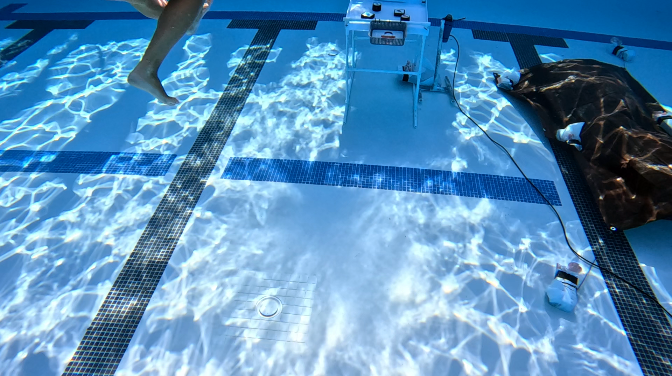sandbag: (493, 59, 671, 237)
